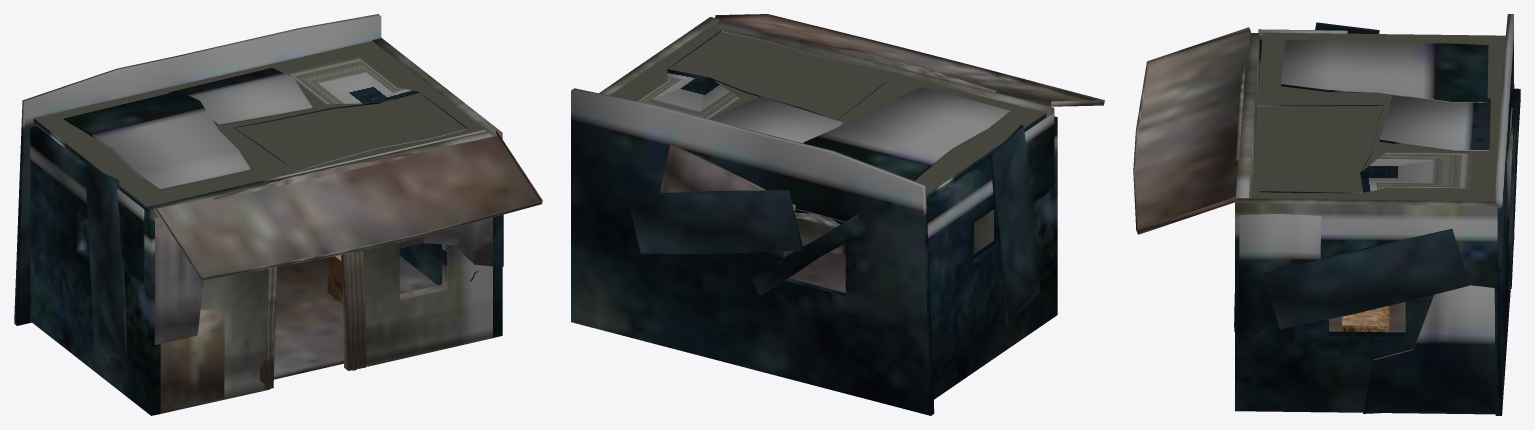
File: shack3.fbx
The picture shows the model from 3 angles, left to right: view 1: azimuth 30°, elevation 25°; view 2: azimuth 150°, elevation 25°; view 3: azimuth 270°, elevation 25°; orthographic projection. The views are drawn at different scales.
Visible parts, largest first — view 1: Main Building, Cube; view 2: Main Building; view 3: Main Building, Cube.
Part boxes in pixels (left/top/right/bottom): Main Building: left=14, top=14, right=542, bottom=415; Cube: left=327, top=255, right=343, bottom=303; Main Building: left=571, top=14, right=1104, bottom=415; Main Building: left=1133, top=14, right=1520, bottom=415; Cube: left=1342, top=306, right=1389, bottom=332.
Size of the model in its own units: 1805 by 1107 by 1637.
